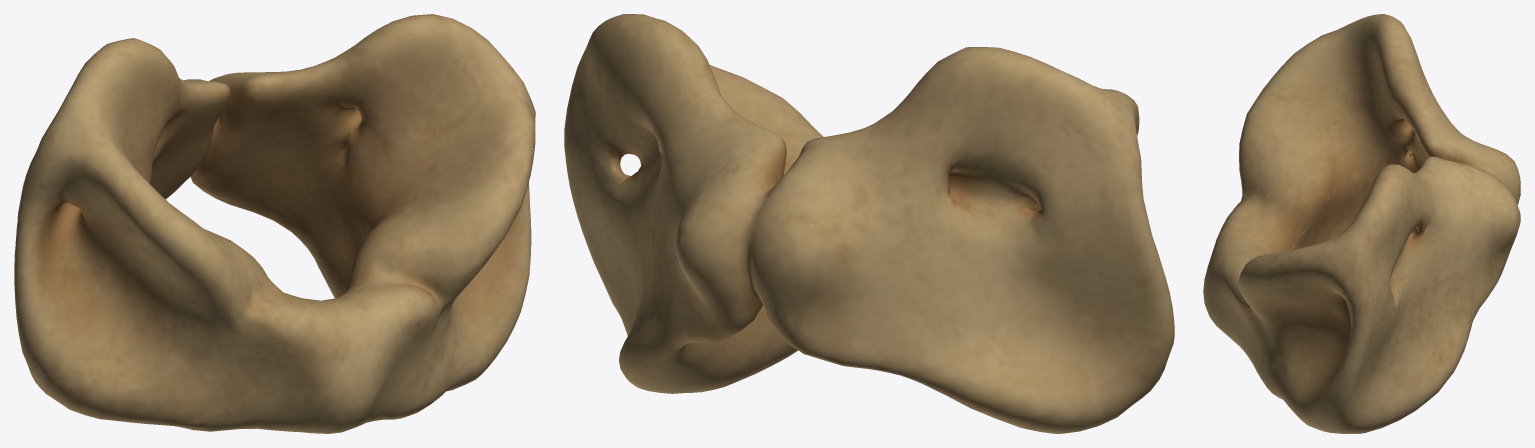
The model's file is Atlas C1.glb.
3 views of the same model, side by side, from view 1: azimuth 30°, elevation 25°; view 2: azimuth 150°, elevation 25°; view 3: azimuth 270°, elevation 25° (orthographic). The views are drawn at different scales.
Visible parts, largest first — view 1: Group57087.001; view 2: Group57087.001; view 3: Group57087.001.
Part boxes in pixels (bbox=[...]): Group57087.001: bbox=[14, 14, 535, 433]; Group57087.001: bbox=[564, 14, 1174, 433]; Group57087.001: bbox=[1203, 14, 1520, 433].
Size of the model in its own units: 84.47 by 59.45 by 57.38.
1 material, 1 textured.
